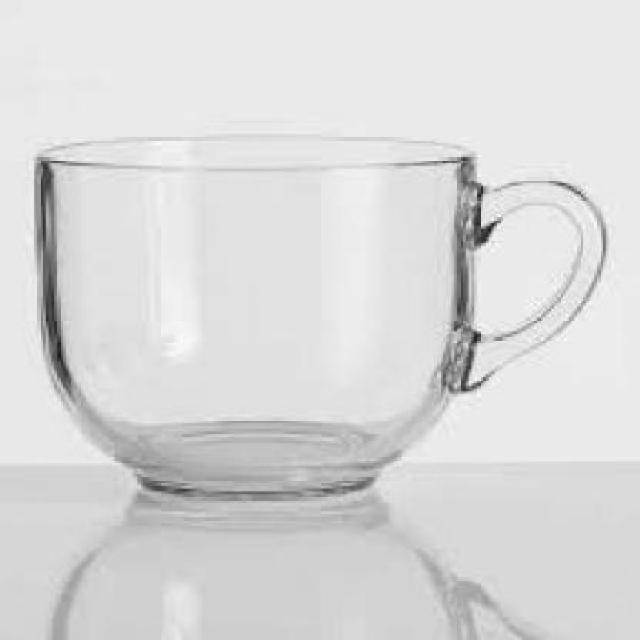kaca: (34, 135, 603, 492)
